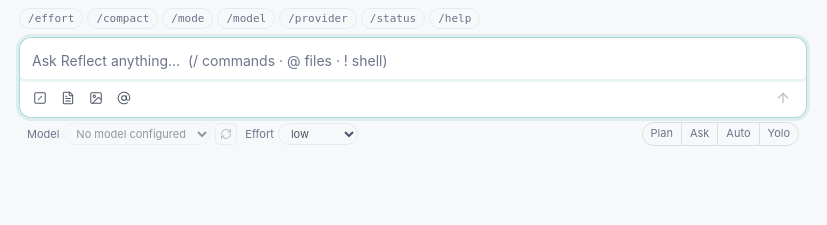
Scenario: Composer bang (!) shell passthrough › runs `! cmd` locally via reflect_run_shell without submitting to the agent
Type "! echo hi" into the text box named "message reflect" at (413, 58), box [20,38,806,79]
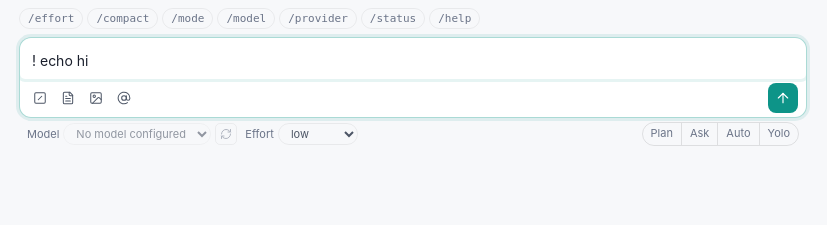
Press Enter in the text box named "message reflect", box [20,38,806,79]
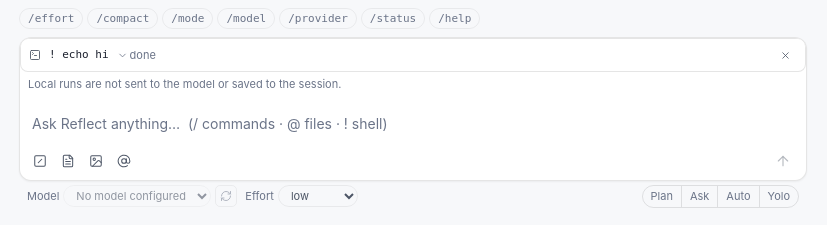
Expected: the element with test id "composer-bang-runs" shows "! echo hi", [20,38,806,92]
Expected: the button "done" is shown, [117,48,156,62]
